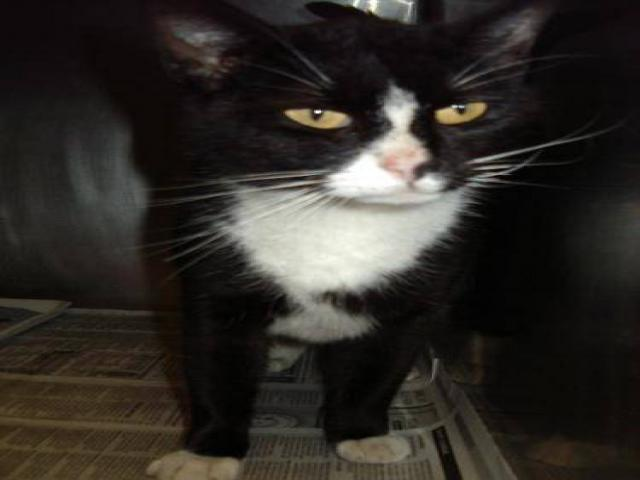cat: (50, 3, 616, 474)
